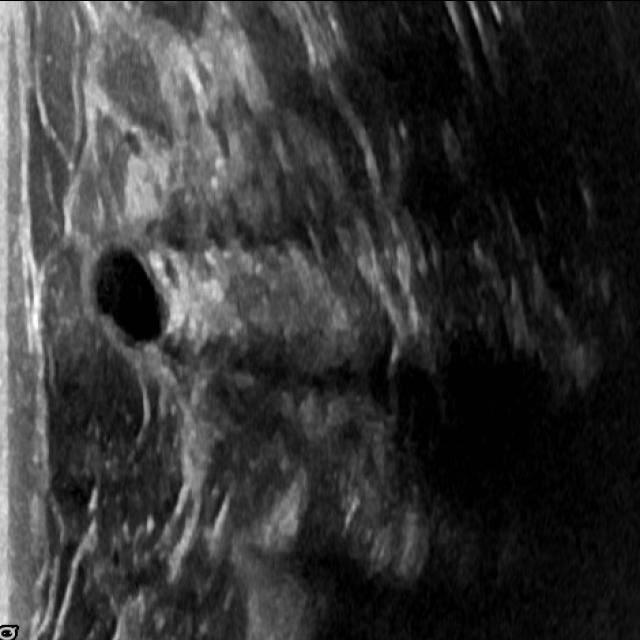Benign: (82, 240, 180, 347)
